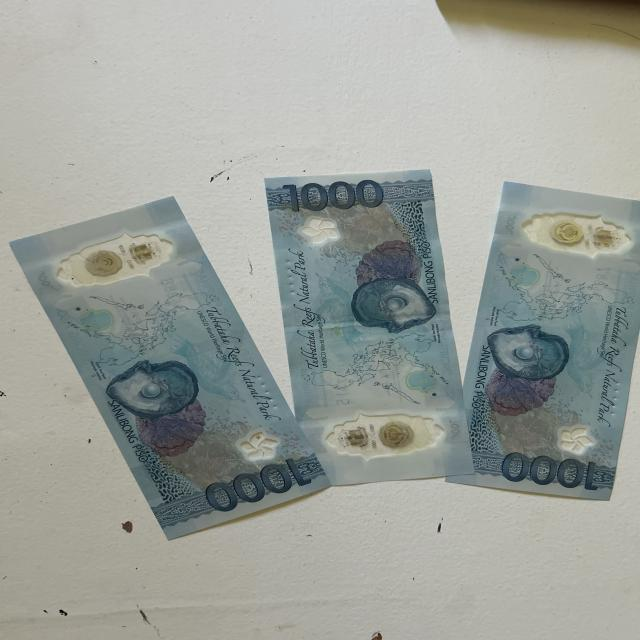clear_window: (34, 230, 197, 285), (517, 204, 637, 260), (317, 414, 448, 457)
sampaguita: (232, 430, 284, 461), (558, 420, 600, 456), (298, 218, 342, 244)
value: (279, 179, 397, 214)
